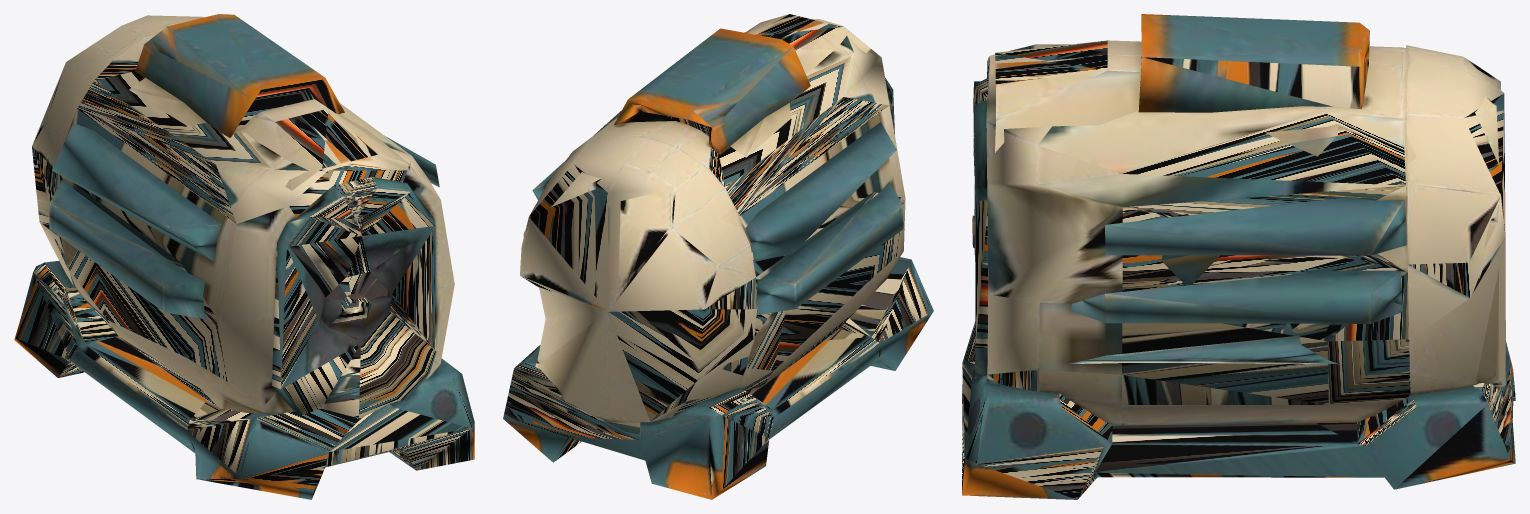
The model's file is starter_generator-lod1.169b9769312e.glb.
3 views of the same model, side by side, from view 1: azimuth 30°, elevation 25°; view 2: azimuth 150°, elevation 25°; view 3: azimuth 270°, elevation 25° (orthographic). The views are drawn at different scales.
Visible parts, largest first — view 1: geometry_0; view 2: geometry_0; view 3: geometry_0.
Boxes of the visible parts, x1,y1,x2,y2 form: geometry_0: (14,14,474,499); geometry_0: (503,14,933,499); geometry_0: (962,14,1515,499).
Bounding box in the file's own units: 0.675 × 0.8033 × 1.
1 material, 1 textured.
